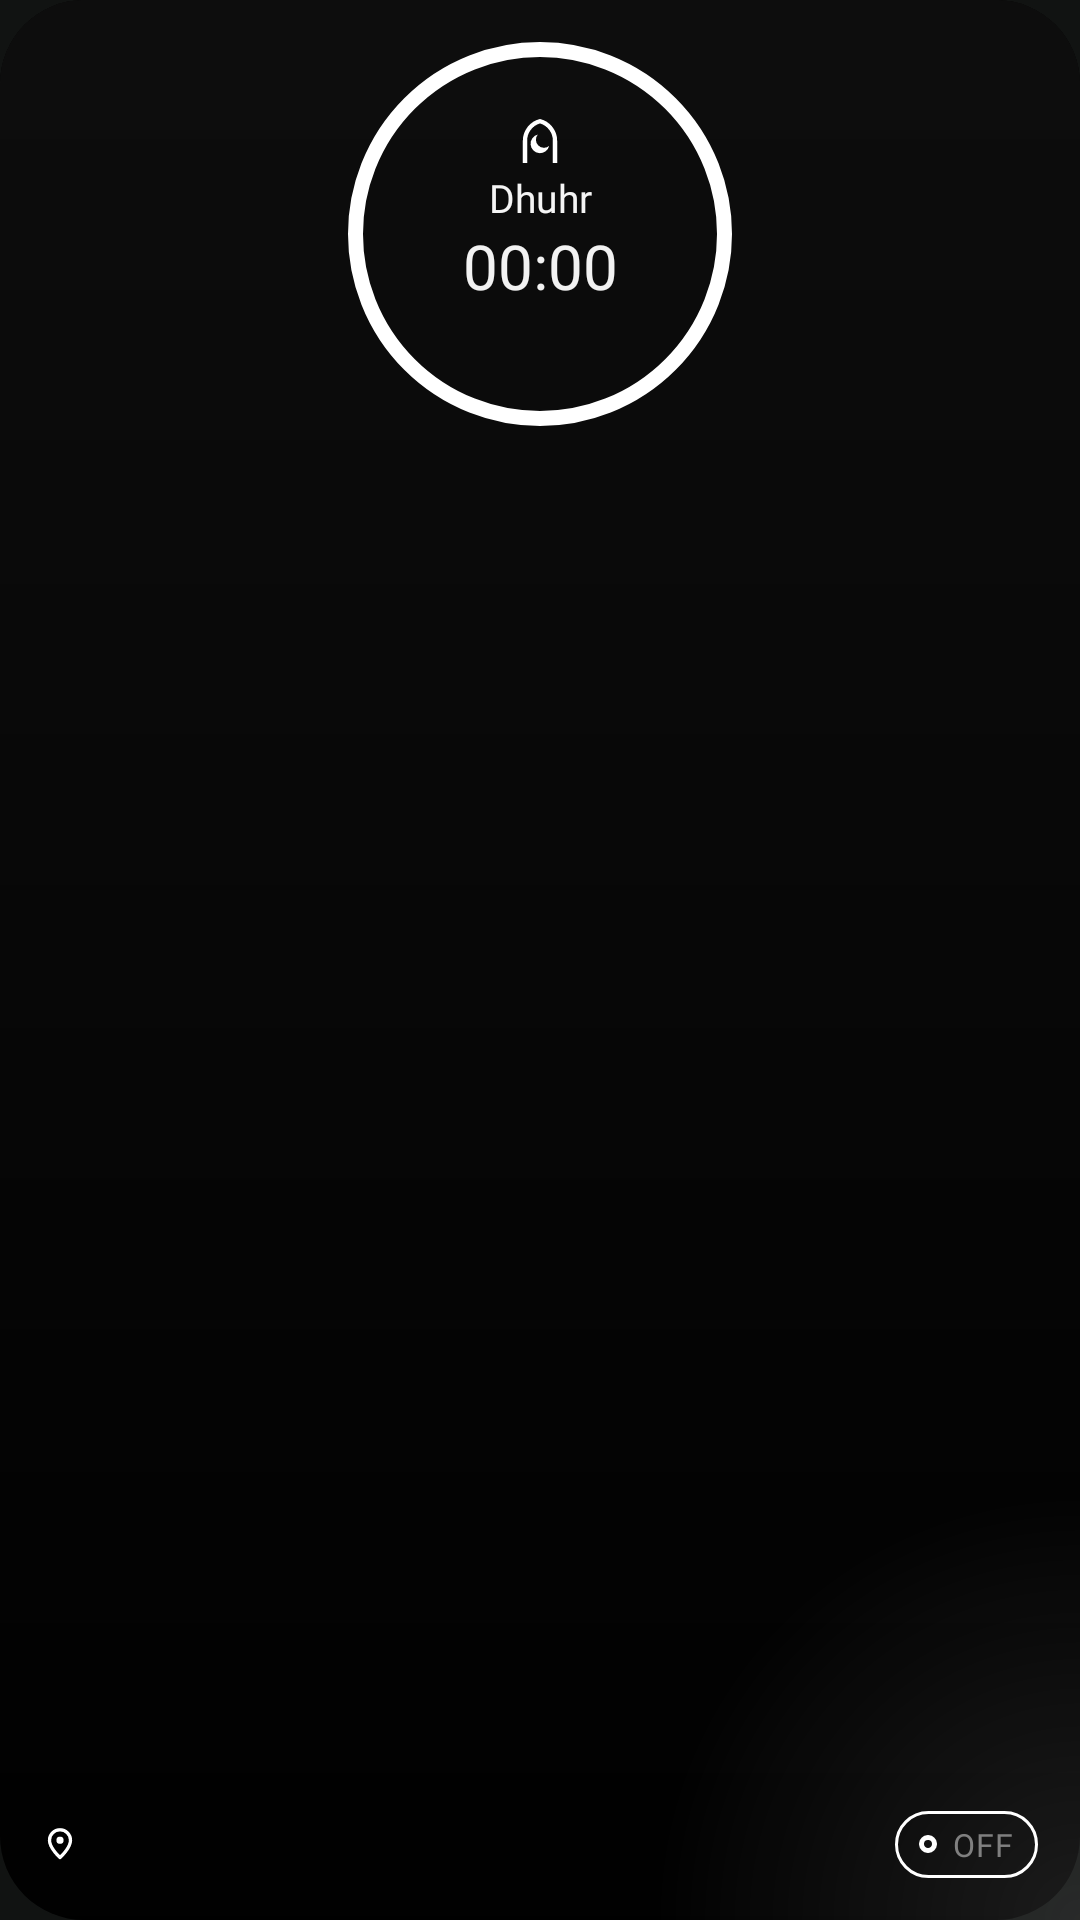

Point at icon controls on the screen. Image size 1080w x 1920h, points as (x=x, y=y).
widget pill: (x=966, y=1844)
widget pin: (x=60, y=1844)
